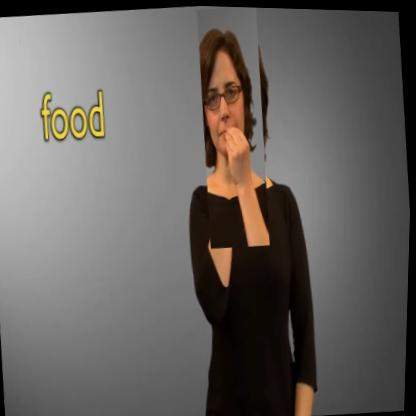Food: (191, 5, 276, 248)
